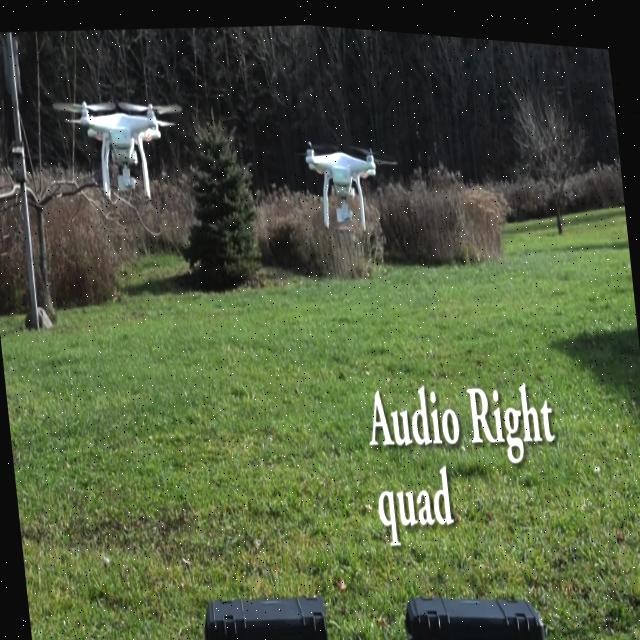drone: (42, 64, 199, 230), (294, 115, 390, 241)
